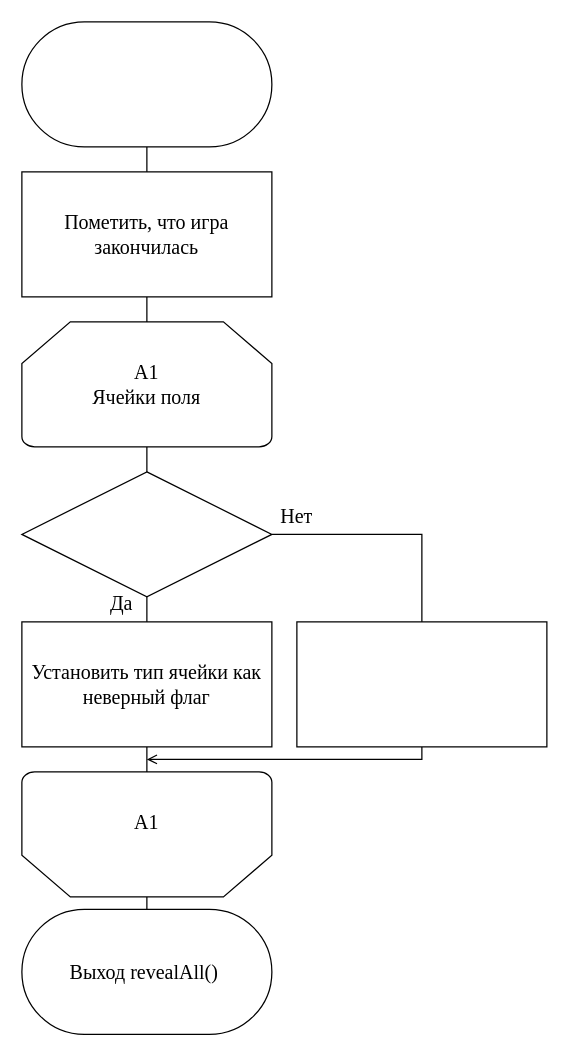
Some shapes in this 569 by 1056 pixel diagram are drawn without their labels. Here are the shapes that lost their labels. From the top down, the centre of each, then its label:
the point at 146,84: Вход revealAll()
the point at 146,534: На ячейке флаг и внутри нет бомбы
the point at 421,684: Открыть ячейку
